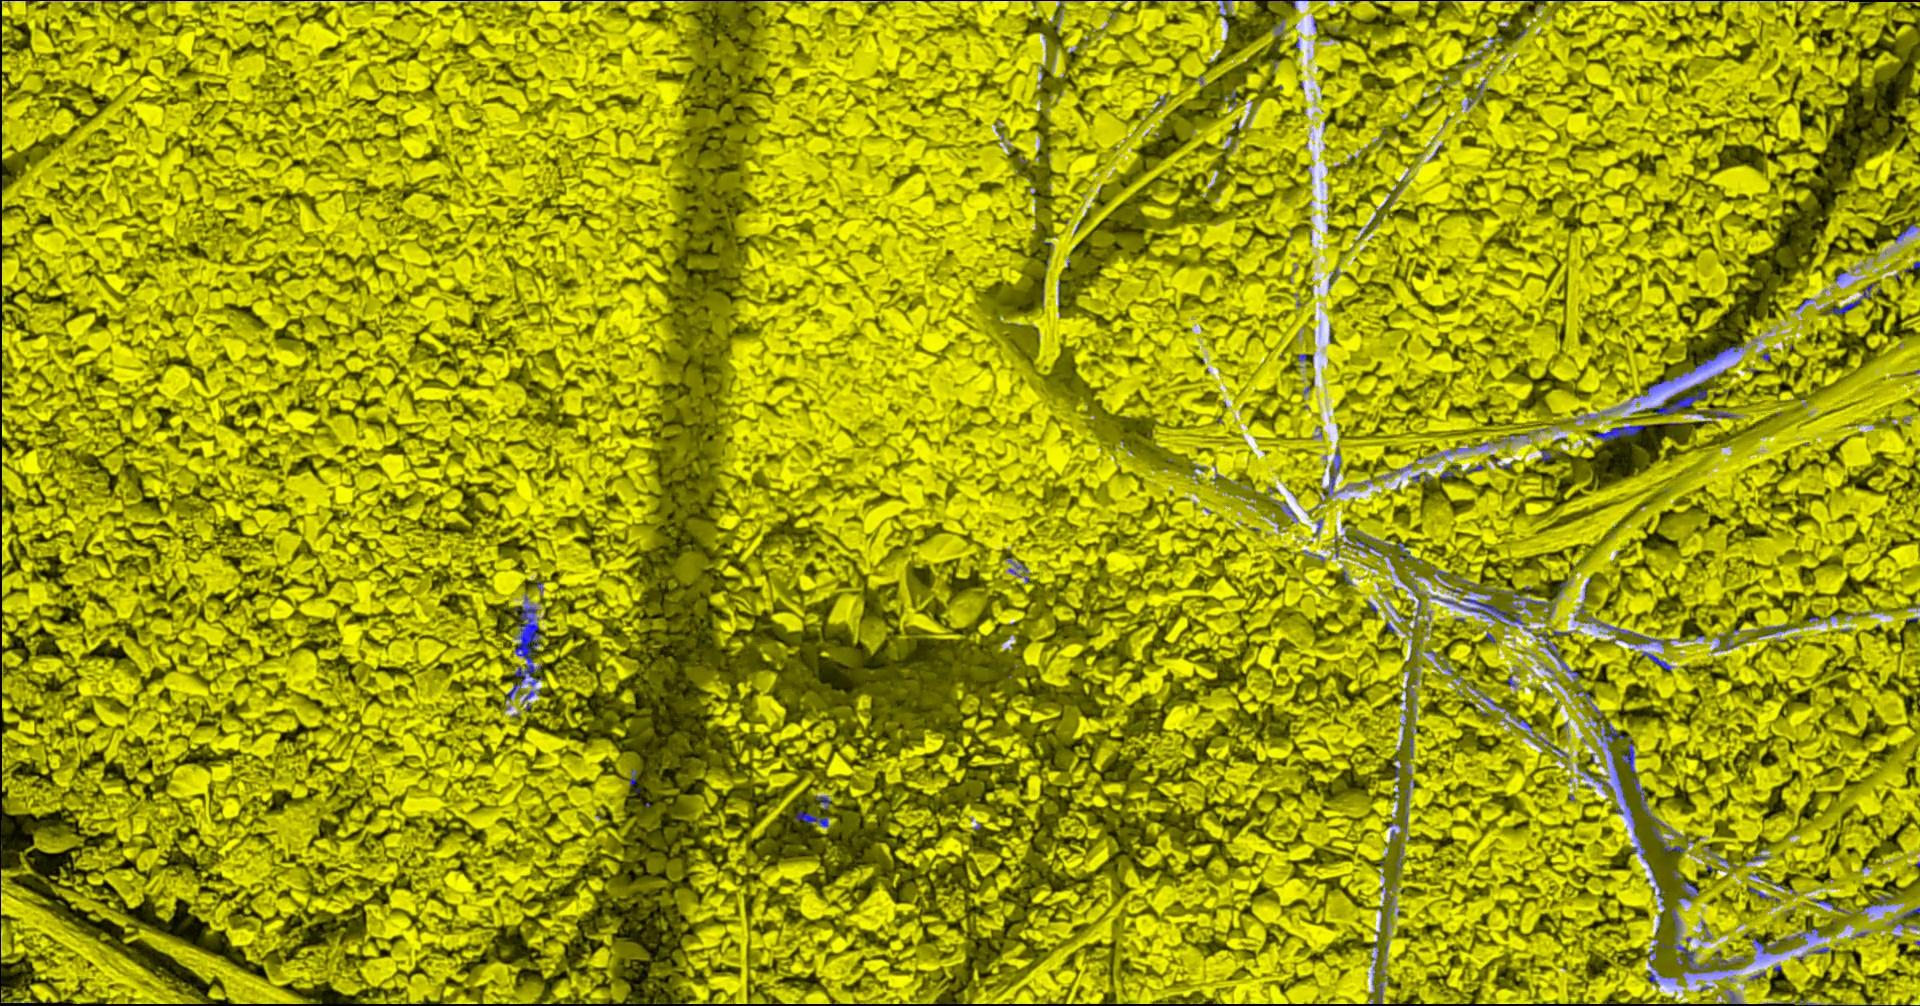ant: (513, 597, 541, 682), (1620, 739, 1647, 813), (1537, 633, 1578, 677), (1644, 387, 1705, 414), (1462, 598, 1523, 624), (1599, 622, 1665, 644), (1695, 345, 1743, 367), (1651, 826, 1684, 852), (1594, 424, 1646, 441), (1600, 721, 1627, 749), (1676, 944, 1702, 970), (1823, 298, 1860, 314), (1641, 652, 1671, 669), (792, 810, 827, 826), (1752, 937, 1782, 953), (1330, 448, 1340, 492), (1677, 882, 1698, 901), (1397, 542, 1415, 559), (1697, 410, 1733, 417), (1763, 625, 1785, 635)
